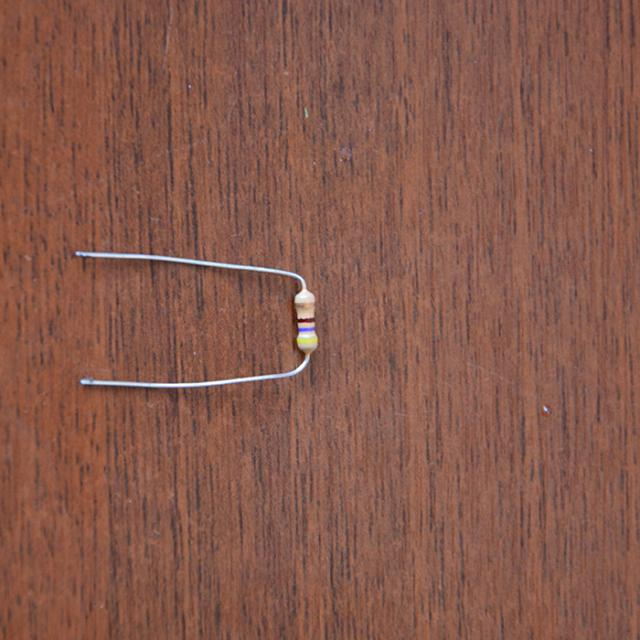brown: (297, 318, 316, 323)
gold: (296, 303, 315, 308)
resistor: (292, 294, 322, 358)
violet: (297, 327, 315, 331)
yellow: (295, 337, 315, 343)
